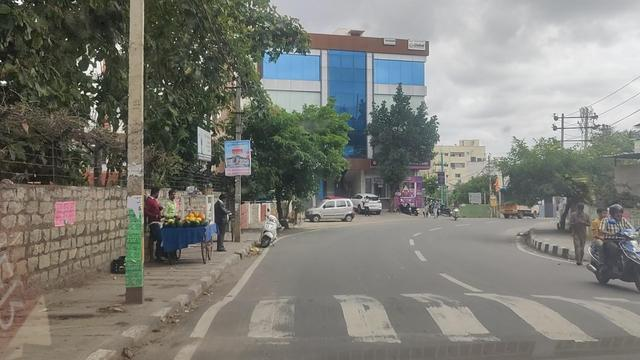LMV: (588, 204, 640, 279)
SpeedBump: (242, 293, 640, 347)
